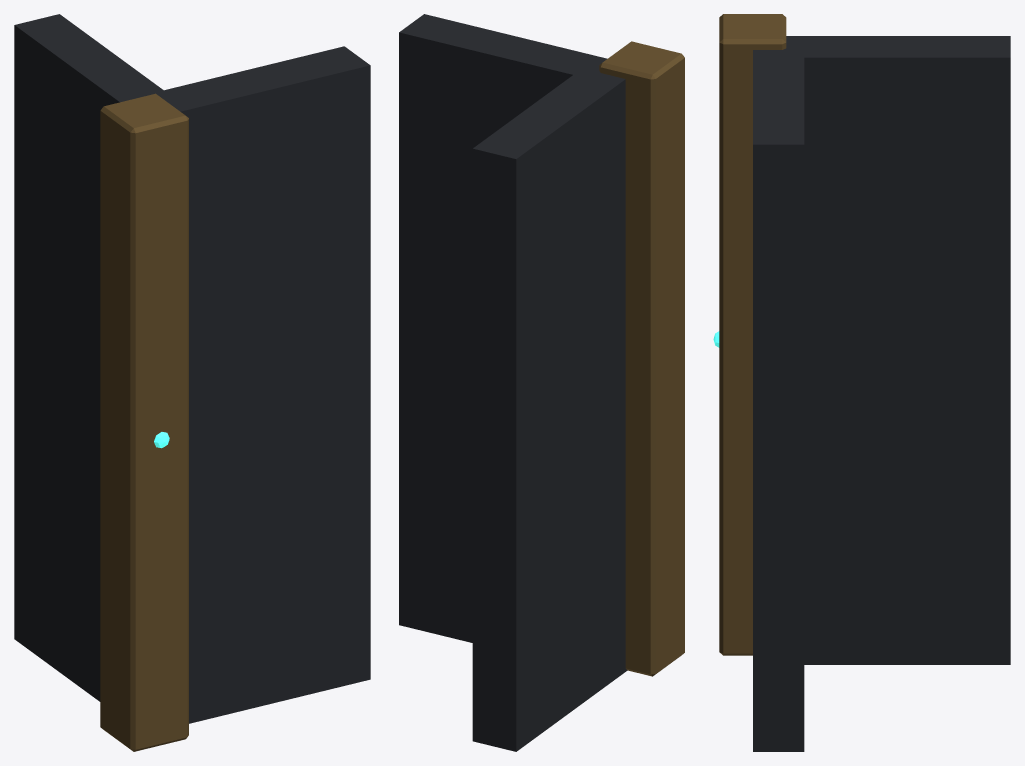
The model's file is SM_Wall_DvergrPlate_08_Corner.fbx.
3 renders of one model, left to right at view 1: azimuth 30°, elevation 25°; view 2: azimuth 150°, elevation 25°; view 3: azimuth 270°, elevation 25°, orthographic. The views are drawn at different scales.
Visible parts, largest first — view 1: SM_Wall_DvergrPlate_08_Corner_PanelX, SM_Wall_DvergrPlate_08_Corner_PanelY, SM_Wall_DvergrPlate_08_Corner_Strut; view 2: SM_Wall_DvergrPlate_08_Corner_PanelY, SM_Wall_DvergrPlate_08_Corner_PanelX, SM_Wall_DvergrPlate_08_Corner_Strut; view 3: SM_Wall_DvergrPlate_08_Corner_PanelY, SM_Wall_DvergrPlate_08_Corner_PanelX, SM_Wall_DvergrPlate_08_Corner_Strut.
Part boxes in pixels (x1,y1,x2,y2): SM_Wall_DvergrPlate_08_Corner_PanelX: (118,46,370,723); SM_Wall_DvergrPlate_08_Corner_PanelY: (14,14,163,701); SM_Wall_DvergrPlate_08_Corner_Strut: (100,93,188,751); SM_Wall_DvergrPlate_08_Corner_PanelY: (472,75,616,751); SM_Wall_DvergrPlate_08_Corner_PanelX: (399,14,627,677); SM_Wall_DvergrPlate_08_Corner_Strut: (599,41,684,676); SM_Wall_DvergrPlate_08_Corner_PanelY: (804,36,1010,664); SM_Wall_DvergrPlate_08_Corner_PanelX: (753,36,804,751); SM_Wall_DvergrPlate_08_Corner_Strut: (719,14,786,655).
Size of the model in its own units: 1.13 by 2.64 by 1.15.
